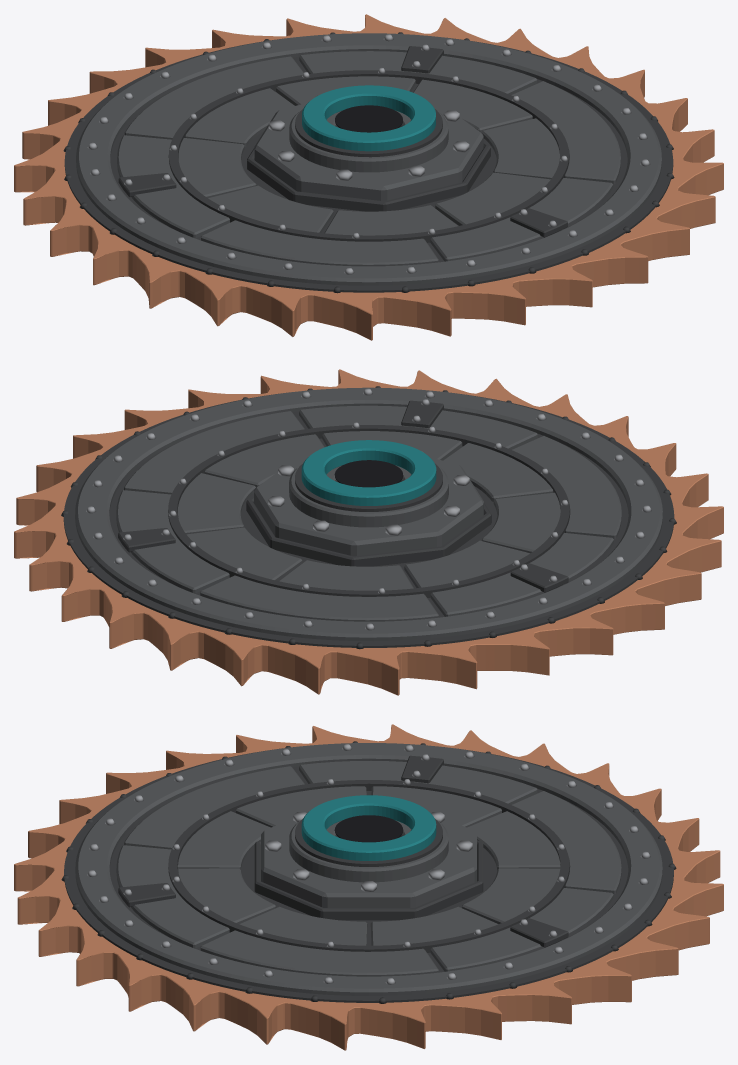
The model's file is saw_blade.glb.
The picture shows the model from 3 angles, top to bottom: view 1: azimuth 30°, elevation 25°; view 2: azimuth 150°, elevation 25°; view 3: azimuth 270°, elevation 25°; orthographic projection.
Visible parts, largest first — view 1: Blade; view 2: Blade; view 3: Blade.
Part boxes in pixels (x1=…): Blade: x1=14, y1=14, x2=723, y2=340; Blade: x1=14, y1=369, x2=723, y2=695; Blade: x1=14, y1=724, x2=723, y2=1050.
Size of the model in its own units: 1.25 by 0.25 by 1.25.
